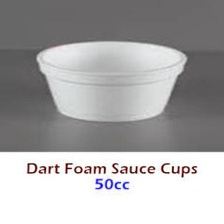paper_cup: (31, 36, 193, 125)
